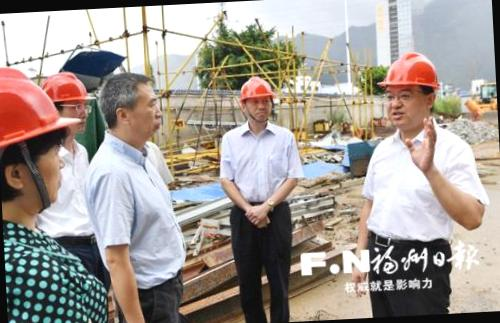no_helmet: (98, 68, 161, 148)
